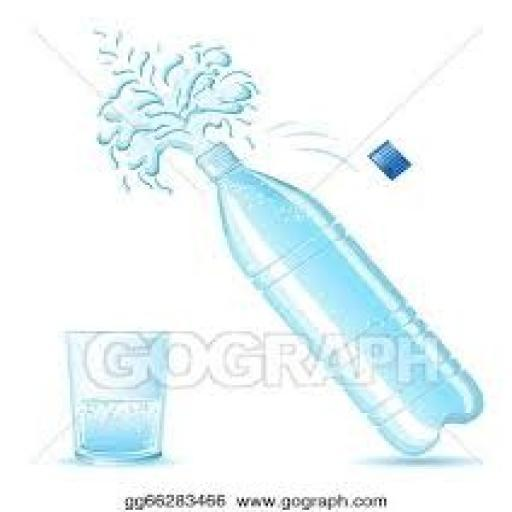bottle: (172, 115, 498, 465)
